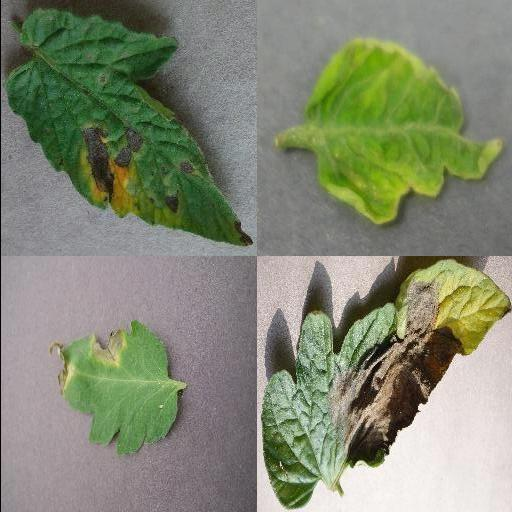Early Blight: (2, 6, 254, 249)
Late Blight: (261, 259, 512, 509), (49, 323, 177, 457)
Yellow Leaf Curl Virus: (303, 38, 501, 226)
